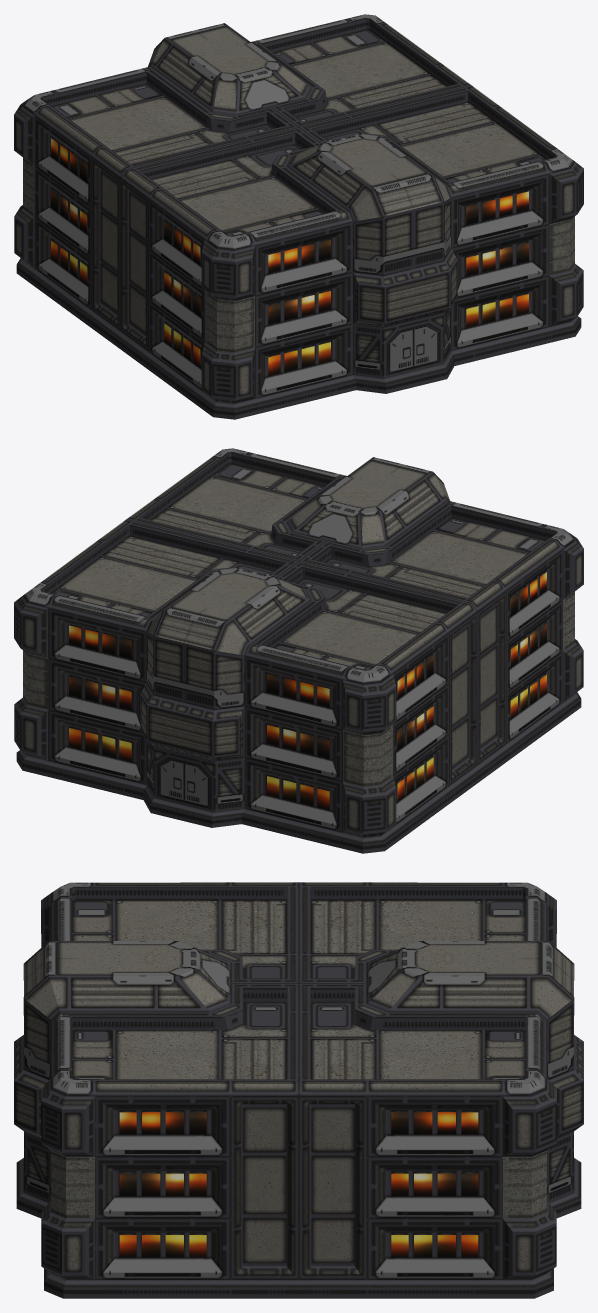
The model's file is house1_fbx.fbx.
3 renders of one model, top to bottom at view 1: azimuth 30°, elevation 25°; view 2: azimuth 150°, elevation 25°; view 3: azimuth 270°, elevation 25°, orthographic. The views are drawn at different scales.
Visible parts, largest first — view 1: house1, house1_windows; view 2: house1, house1_windows; view 3: house1, house1_windows.
Part boxes in pixels (bbox=[...]): house1: bbox=[14, 14, 583, 419]; house1_windows: bbox=[51, 138, 528, 375]; house1: bbox=[14, 448, 583, 853]; house1_windows: bbox=[69, 572, 546, 809]; house1: bbox=[14, 882, 583, 1298]; house1_windows: bbox=[119, 1112, 478, 1257].
Bounding box in the file's own units: 3034 × 1508 × 3353.
2 materials, 2 textured.
